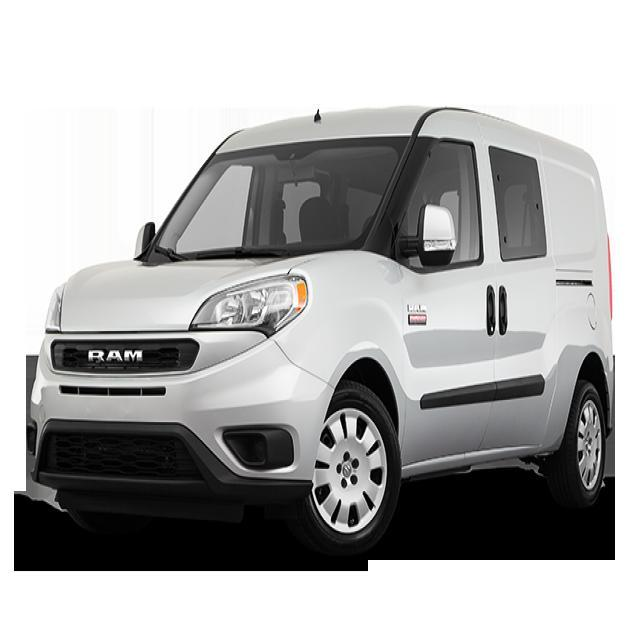truck: (24, 102, 615, 557)
